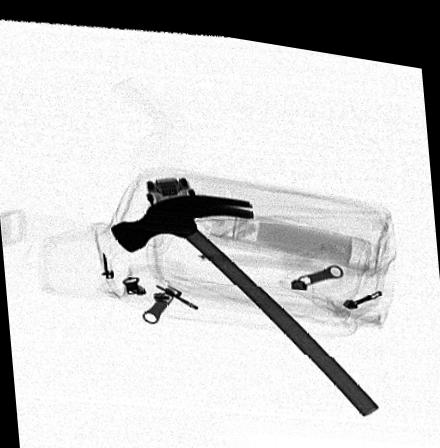Hammer: (108, 186, 379, 405)
